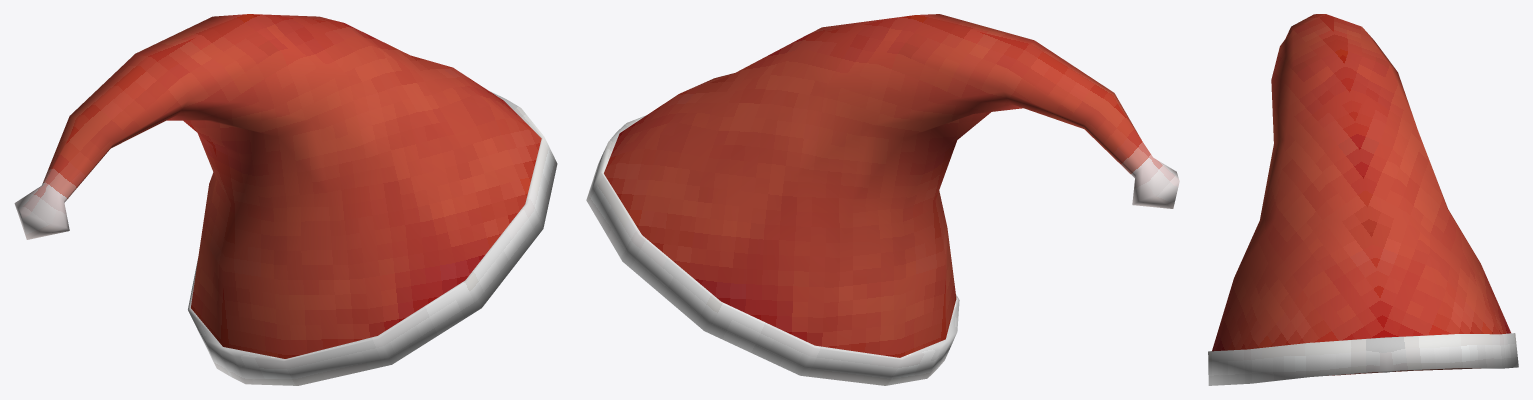
File: HelmetYule.fbx
3 views of the same model, side by side, from view 1: azimuth 30°, elevation 25°; view 2: azimuth 150°, elevation 25°; view 3: azimuth 270°, elevation 25° (orthographic). The views are drawn at different scales.
Visible parts, largest first — view 1: bronzehelmet; view 2: bronzehelmet; view 3: bronzehelmet.
Boxes of the visible parts, x1,y1,x2,y2 form: bronzehelmet: (14, 14, 557, 385); bronzehelmet: (586, 14, 1179, 385); bronzehelmet: (1208, 14, 1518, 385).
Bounding box in the file's own units: 39.35 × 24.72 × 21.02.
1 material, 1 textured.
